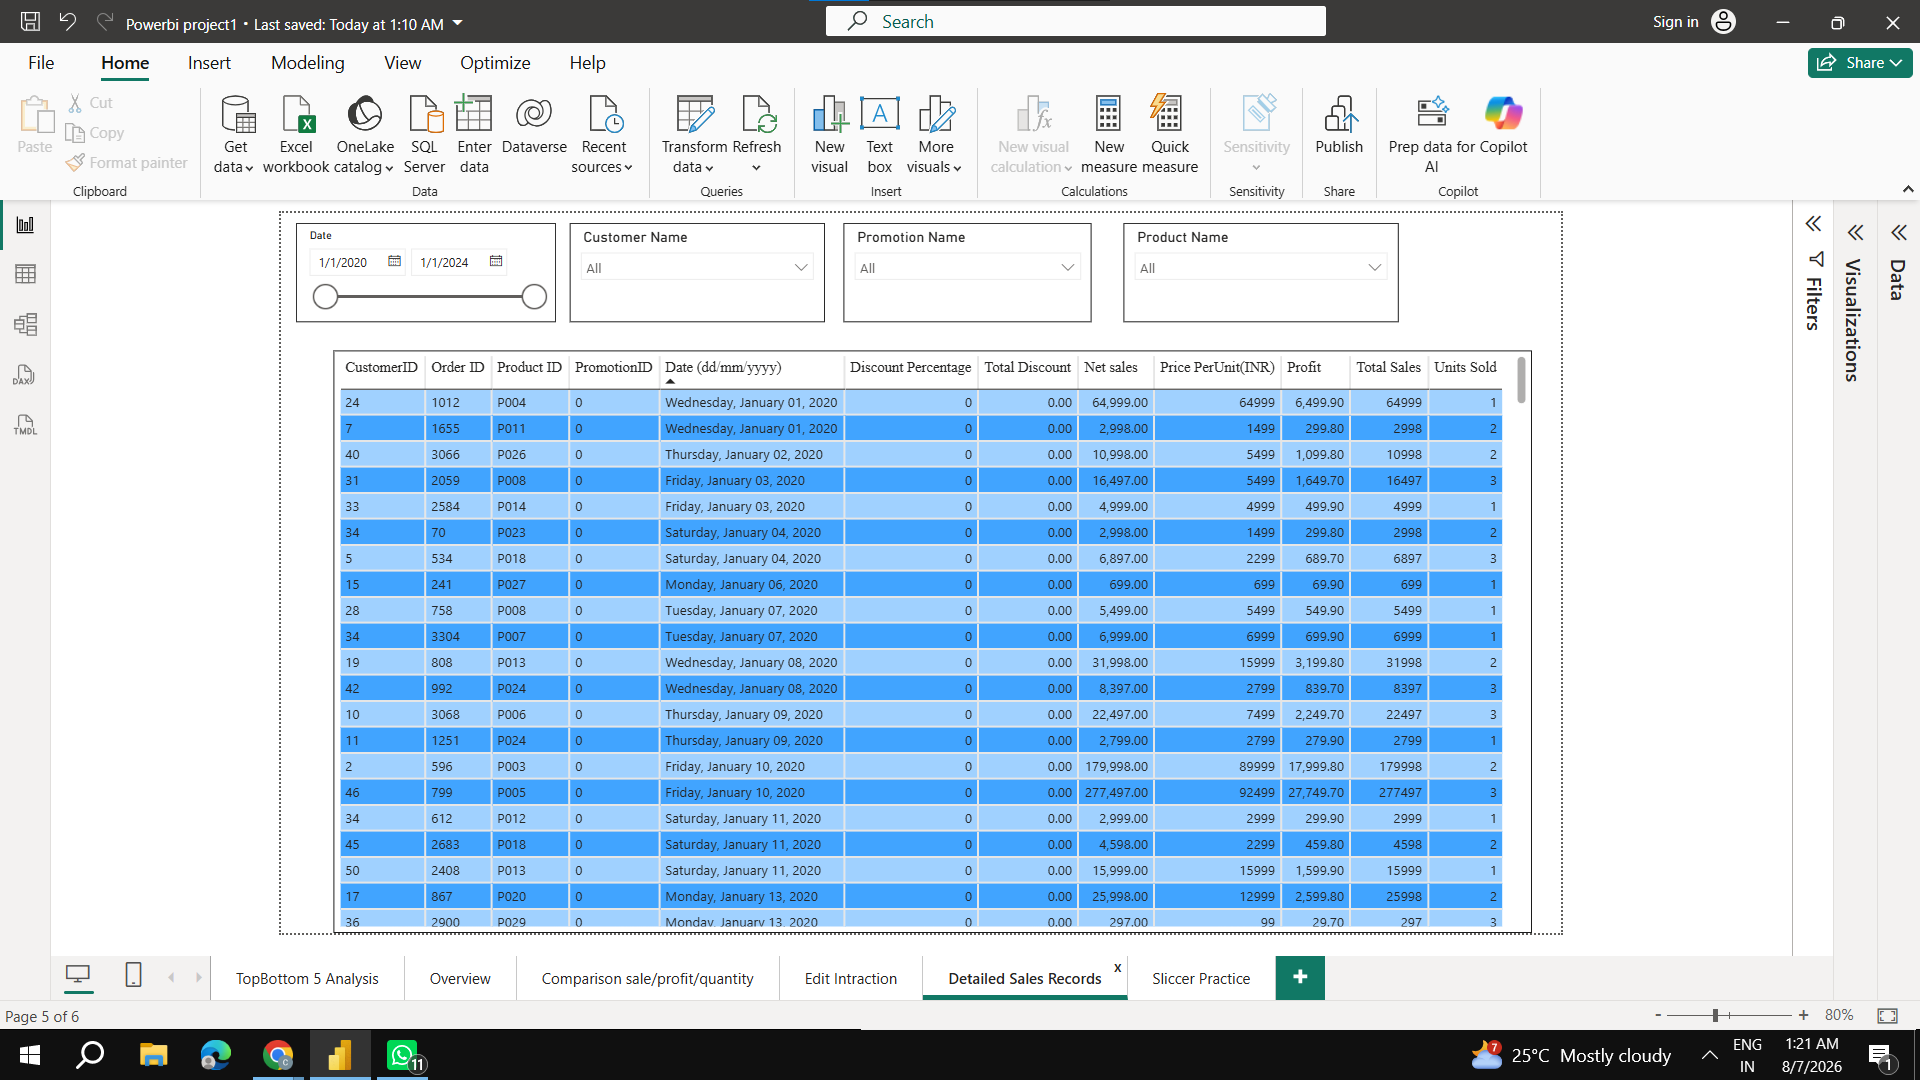

What the dashboard file says about the page in this screenshot:
{"tool":"powerbi","page":{"name":"Detailed Sales Records","canvas":[1280,720],"ordinal":4},"visuals":[{"type":"tableEx","fields":{"Values":["Fact Table.CustomerID","Fact Table.Order ID","Fact Table.Product ID","Fact Table.PromotionID","Fact Table.Date (dd/mm/yyyy)","Fact Table.Discount Percentage","Fact Table.Discount Value  ","Fact Table.Net sales  ","Fact Table.Price PerUnit(INR)","Fact Table.Profit","Fact Table.Total Sales ","Fact Table.Units Sold"]},"box":[52.5,137.5,1198.8,582.5],"z":0},{"type":"slicer","fields":{"Values":["Date Table 1.Date"]},"box":[15,10,260,99],"z":1000},{"type":"slicer","fields":{"Values":["Dim Customers.Customer Name"]},"box":[289,10,255,99],"z":2000},{"type":"slicer","fields":{"Values":["Dim Promotion.Promotion Name"]},"box":[562,10,248,99],"z":3000},{"type":"slicer","fields":{"Values":["Dim Product.Product Name"]},"box":[842,10,275,99],"z":4000}]}

Visuals, with their boxes on the page's 1280x720 design canvas (x1, y1, x2, y2). These are canvas units, not pixel positions in the 1920x1080 screenshot, which may show the page scaled, cropped or inside an application window:
tableEx - Fact Table.CustomerID x Fact Table.Order ID: [52, 138, 1251, 720]
slicer - Date Table 1.Date: [15, 10, 275, 109]
slicer - Dim Customers.Customer Name: [289, 10, 544, 109]
slicer - Dim Promotion.Promotion Name: [562, 10, 810, 109]
slicer - Dim Product.Product Name: [842, 10, 1117, 109]
